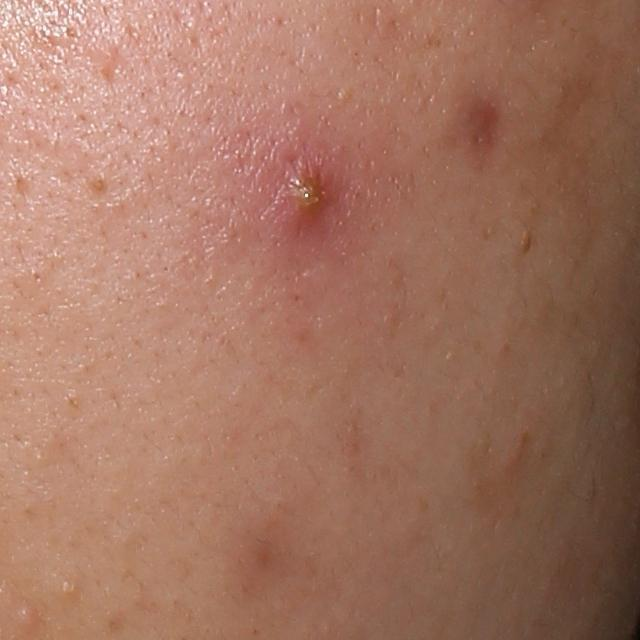comedo: (56, 574, 83, 600), (14, 601, 38, 628)
papule: (503, 443, 526, 470)
